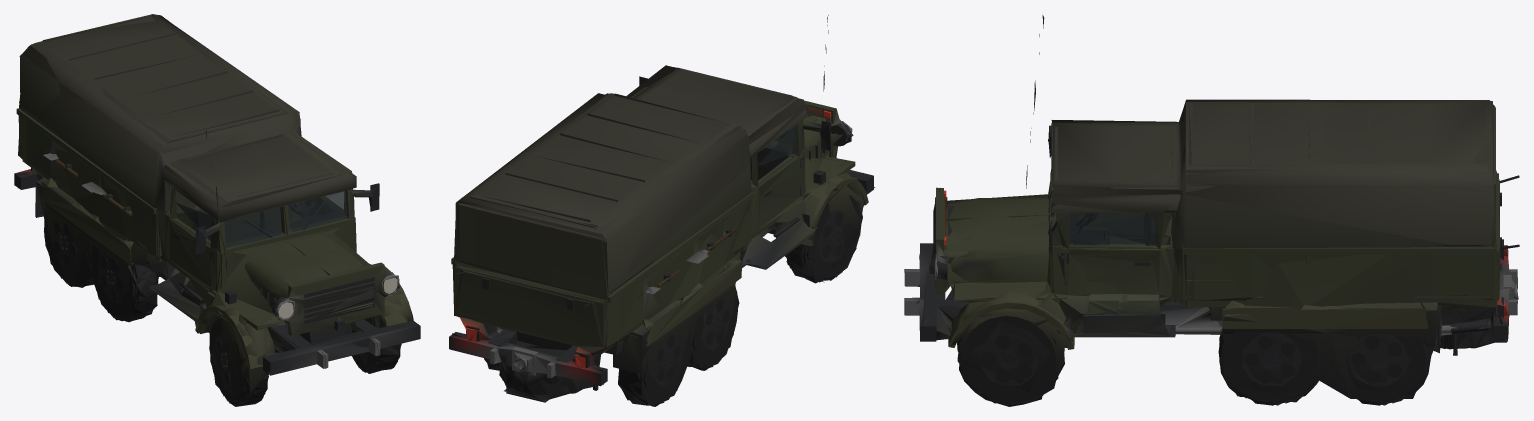
Rendered from ural.glb.
The picture shows the model from 3 angles, left to right: view 1: azimuth 30°, elevation 25°; view 2: azimuth 150°, elevation 25°; view 3: azimuth 270°, elevation 25°; orthographic projection. The views are drawn at different scales.
Visible parts, largest first — view 1: L1_03_hull_opaque, L2_04_hull_opaque, L0_01_hull_opaque, L0_00_hull_glass, L1_02_hull_glass; view 2: L1_03_hull_opaque, L2_04_hull_opaque, L0_01_hull_opaque, L0_00_hull_glass, L1_02_hull_glass; view 3: L1_03_hull_opaque, L2_04_hull_opaque, L0_01_hull_opaque, L0_00_hull_glass, L1_02_hull_glass.
Part boxes in pixels (x1=…): L1_03_hull_opaque: x1=14, y1=14, x2=420, y2=406; L2_04_hull_opaque: x1=17, y1=15, x2=418, y2=406; L0_01_hull_opaque: x1=14, y1=14, x2=420, y2=404; L0_00_hull_glass: x1=176, y1=191, x2=348, y2=248; L1_02_hull_glass: x1=176, y1=191, x2=347, y2=247; L1_03_hull_opaque: x1=449, y1=30, x2=873, y2=406; L2_04_hull_opaque: x1=452, y1=15, x2=875, y2=405; L0_01_hull_opaque: x1=449, y1=67, x2=873, y2=405; L0_00_hull_glass: x1=758, y1=125, x2=796, y2=166; L1_02_hull_glass: x1=758, y1=126, x2=795, y2=165; L1_03_hull_opaque: x1=904, y1=34, x2=1517, y2=406; L2_04_hull_opaque: x1=919, y1=15, x2=1503, y2=403; L0_01_hull_opaque: x1=905, y1=101, x2=1519, y2=405; L0_00_hull_glass: x1=1052, y1=212, x2=1156, y2=244; L1_02_hull_glass: x1=1071, y1=213, x2=1155, y2=243.
Bounding box in the file's own units: 2.82 × 3.93 × 7.2.
